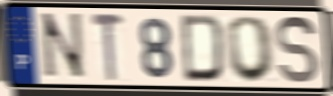8: (138, 15, 176, 80)
D: (179, 12, 227, 84)
N: (39, 11, 89, 81)
O: (226, 14, 278, 85)
S: (274, 14, 322, 87)
T: (88, 10, 126, 83)
